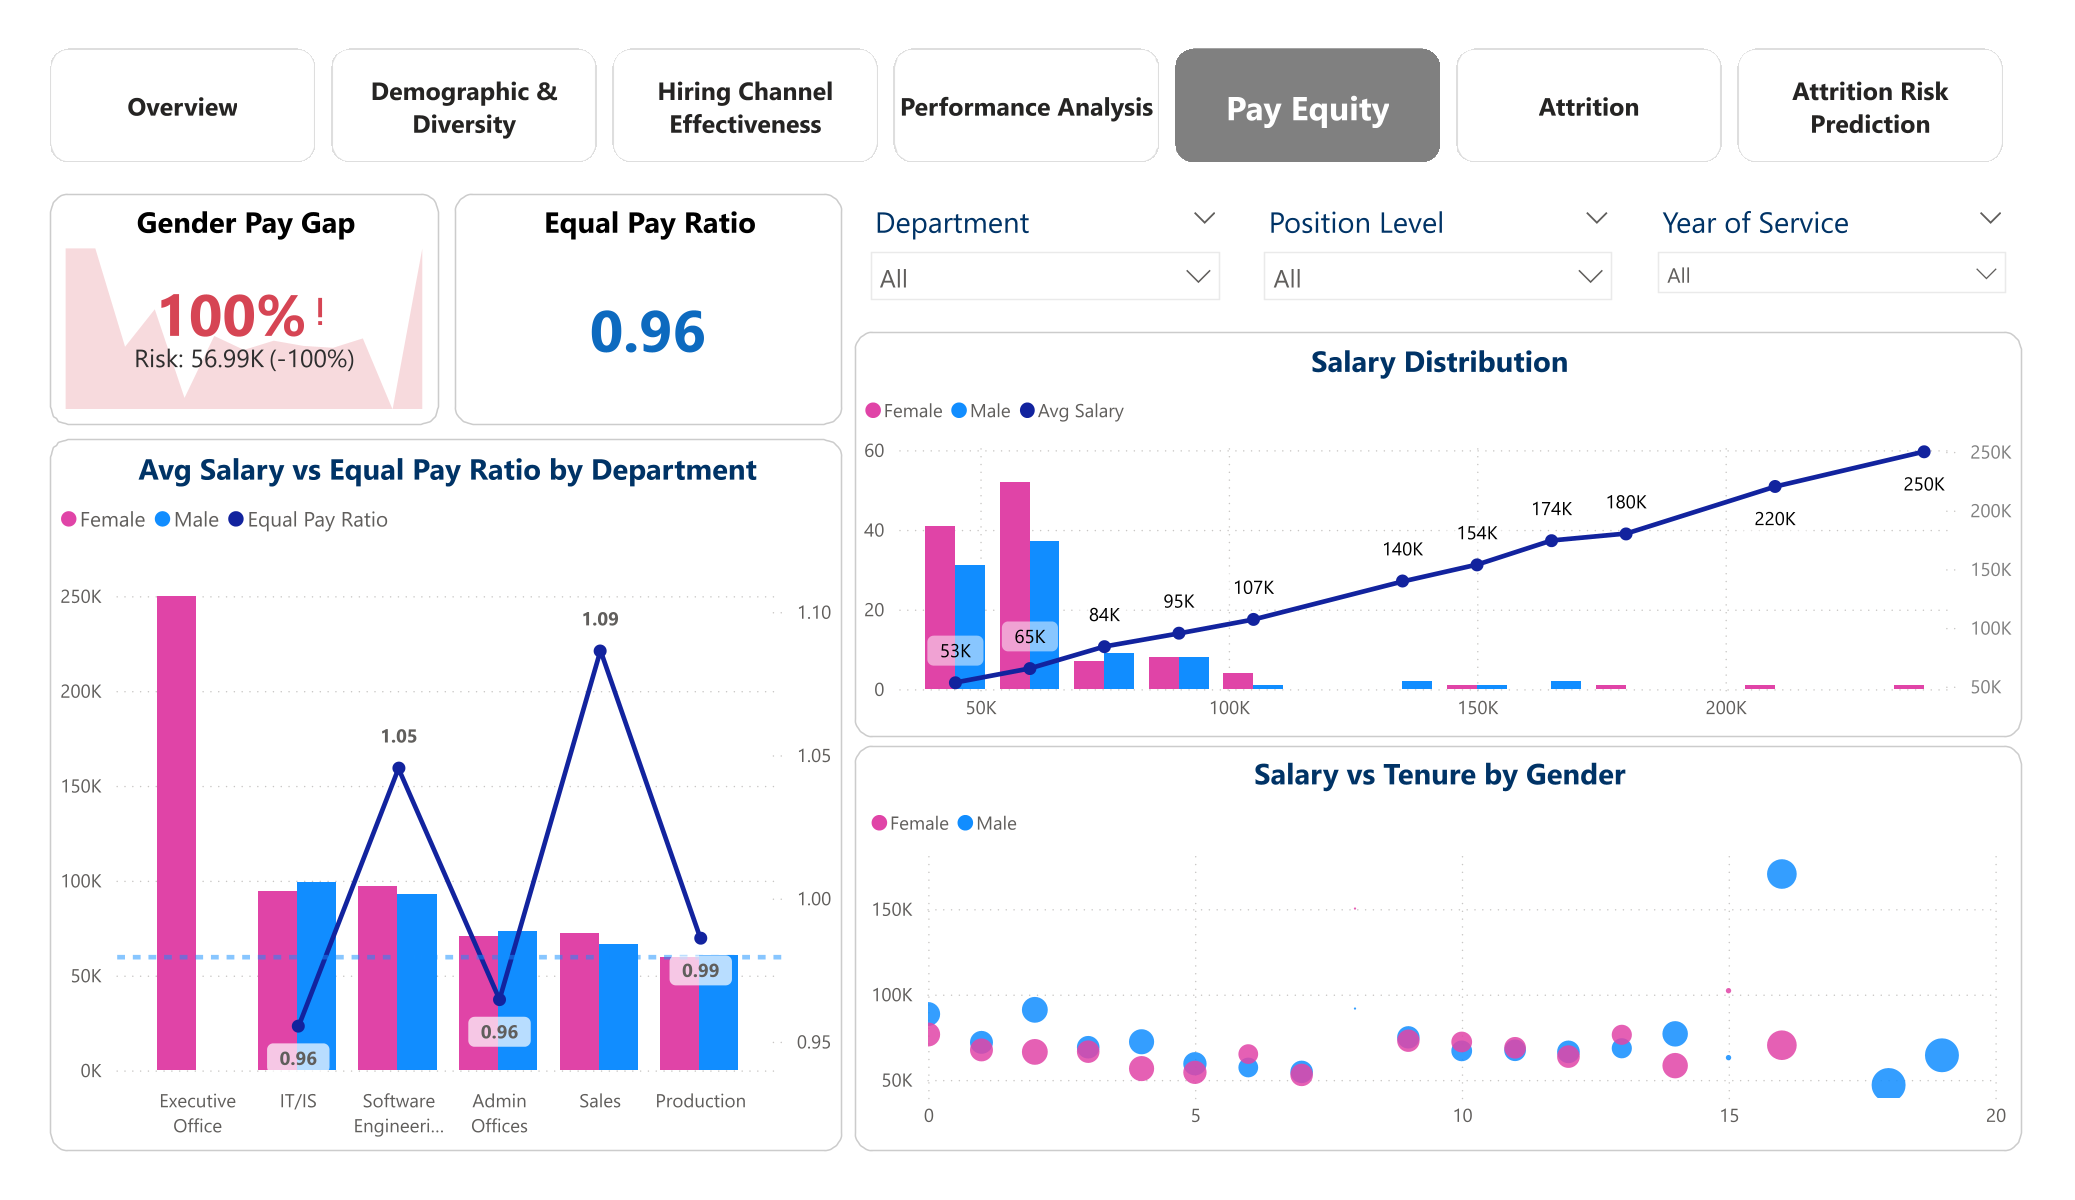

The dashboard page shown, as its layout file describes it:
{"tool":"powerbi","page":{"name":"Pay Equity","canvas":[1280,720],"ordinal":4},"visuals":[{"type":"slicer","fields":{"Values":["DIM-Dept.Department"]},"box":[523.3,100,243.3,80],"z":0},{"type":"slicer","fields":{"Values":["DIM-Position.Position Level"]},"box":[775,100,243.3,80],"z":1000},{"type":"slicer","fields":{"Values":["FACT-HRData.YearofService"]},"box":[1026.7,100,243.3,80],"z":2000},{"type":"kpi","title":"Gender Pay Gap","fields":{"TrendLine":["FACT-HRData.Dateo f Hire.Variation.Date Hierarchy.Year"],"Indicator":["FACT-HRData.GenderPayGap"],"Goal":["FACT-HRData.AvgSalary"]},"box":[8.3,100,248.3,148.3],"z":3000},{"type":"card","title":"Equal Pay Ratio","fields":{"Values":["FACT-HRData.EqualPayRatio"]},"box":[266.7,100,248.3,148.3],"z":4000},{"type":"lineClusteredColumnComboChart","title":"Avg Salary vs Equal Pay Ratio by Department","fields":{"Category":["DIM-Dept.Department"],"Y":["FACT-HRData.AvgSalary"],"Series":["FACT-HRData.Gender"],"Y2":["FACT-HRData.EqualPayRatio"]},"box":[8.3,256.7,506.7,456.7],"z":5000},{"type":"lineClusteredColumnComboChart","title":"Salary Distribution","fields":{"Y":["DIM-EmployeeData.Active_HC"],"Category":["FACT-HRData.Salary (bins)"],"Y2":["FACT-HRData.AvgSalary"],"Series":["FACT-HRData.Gender"]},"box":[523.3,188.3,746.7,260],"z":6000},{"type":"scatterChart","title":"Salary vs Tenure by Gender","fields":{"X":["FACT-HRData.YearofService"],"Size":["FACT-HRData.GenderPayGap"],"Y":["FACT-HRData.AvgSalary"],"Series":["FACT-HRData.Gender"]},"box":[523.3,453.3,746.7,260],"z":7000},{"type":"pageNavigator","box":[8.3,6.7,1255,73.3],"z":8000}]}

Visuals, with their boxes on the page's 1280x720 design canvas (x1, y1, x2, y2). These are canvas units, not pixel positions in the 2075x1200 screenshot, which may show the page scaled, cropped or inside an application window:
slicer - DIM-Dept.Department: [left=523, top=100, right=767, bottom=180]
slicer - DIM-Position.Position Level: [left=775, top=100, right=1018, bottom=180]
slicer - FACT-HRData.YearofService: [left=1027, top=100, right=1270, bottom=180]
"Gender Pay Gap" kpi: [left=8, top=100, right=257, bottom=248]
"Equal Pay Ratio" card: [left=267, top=100, right=515, bottom=248]
"Avg Salary vs Equal Pay Ratio by Department" lineClusteredColumnComboChart: [left=8, top=257, right=515, bottom=713]
"Salary Distribution" lineClusteredColumnComboChart: [left=523, top=188, right=1270, bottom=448]
"Salary vs Tenure by Gender" scatterChart: [left=523, top=453, right=1270, bottom=713]
pageNavigator: [left=8, top=7, right=1263, bottom=80]
